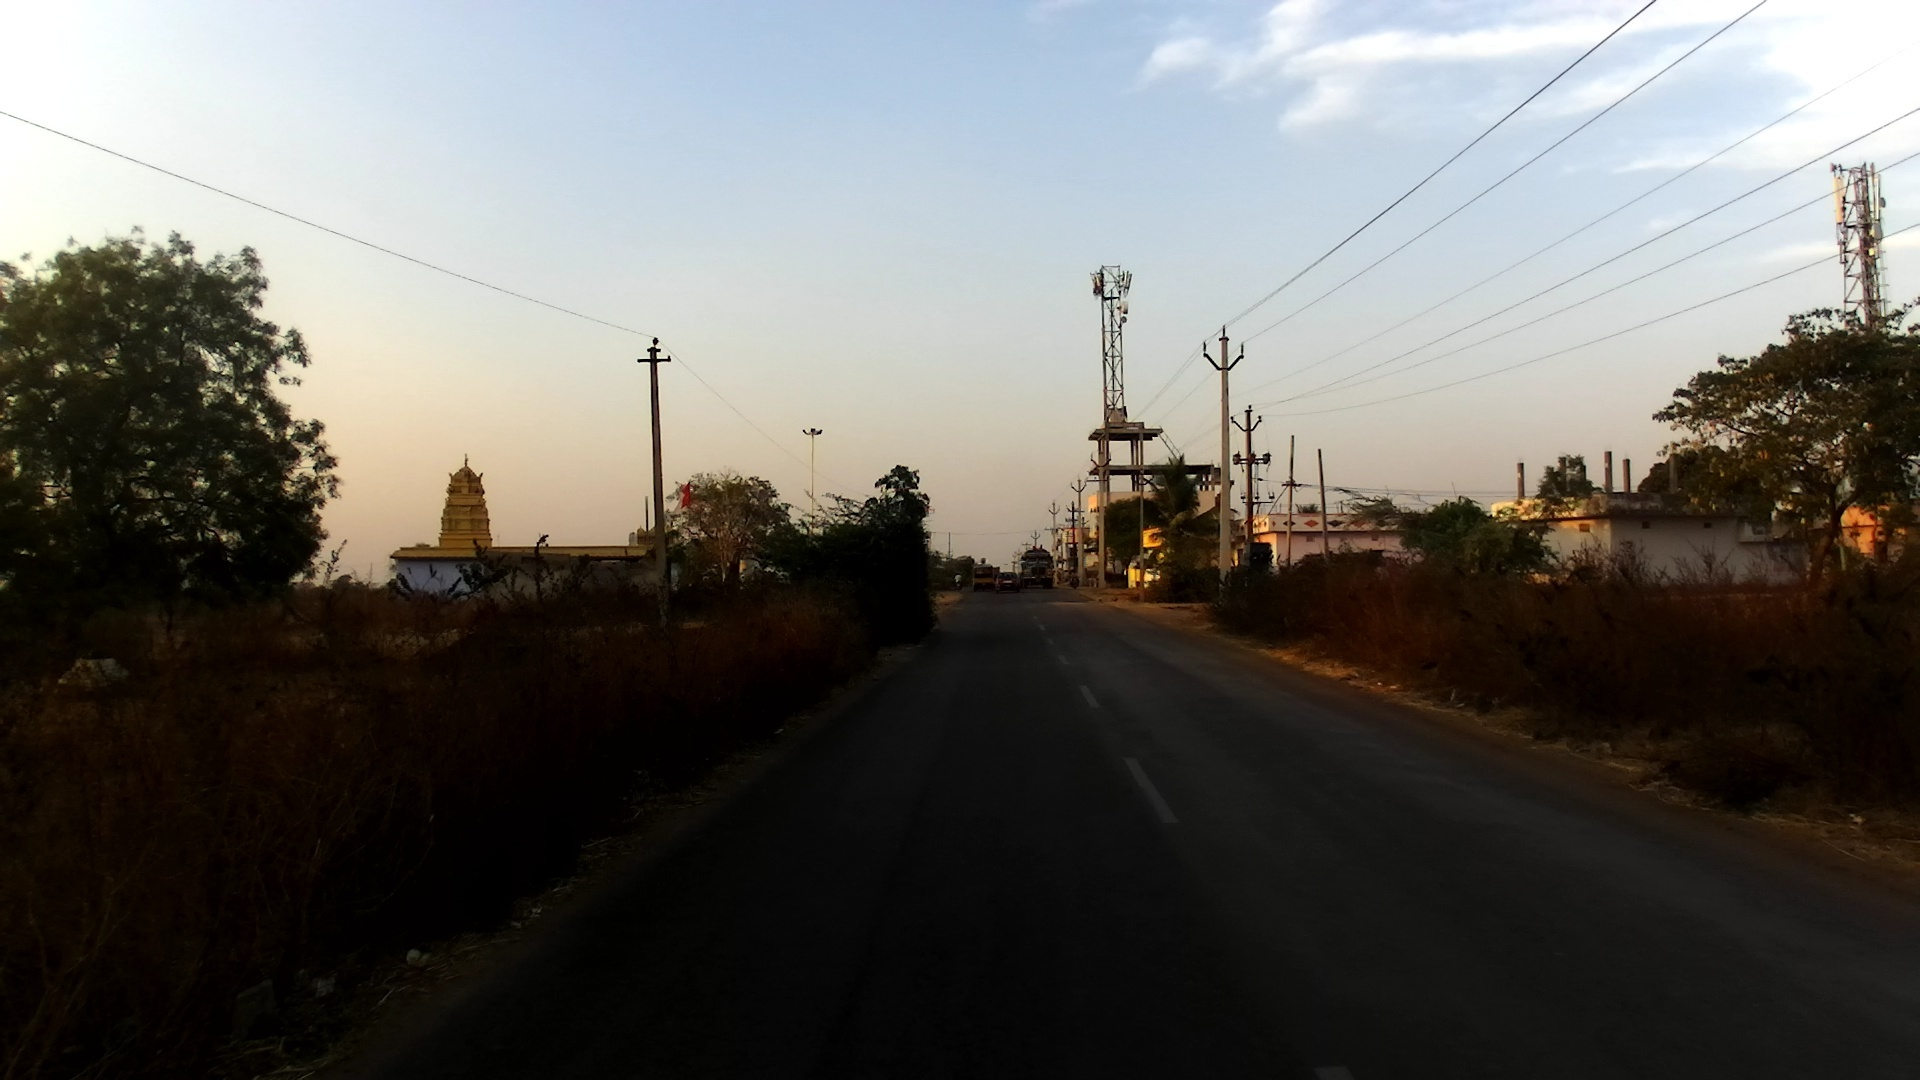autorickshaw: (972, 557, 996, 593)
car: (994, 571, 1020, 593)
motorcycle: (955, 580, 965, 593), (1070, 577, 1080, 588)
rider: (1069, 569, 1080, 587), (954, 573, 965, 588), (1039, 543, 1046, 551), (1031, 544, 1039, 550)
truck: (1018, 551, 1056, 591)
vehicle fallback: (992, 565, 1003, 582)
